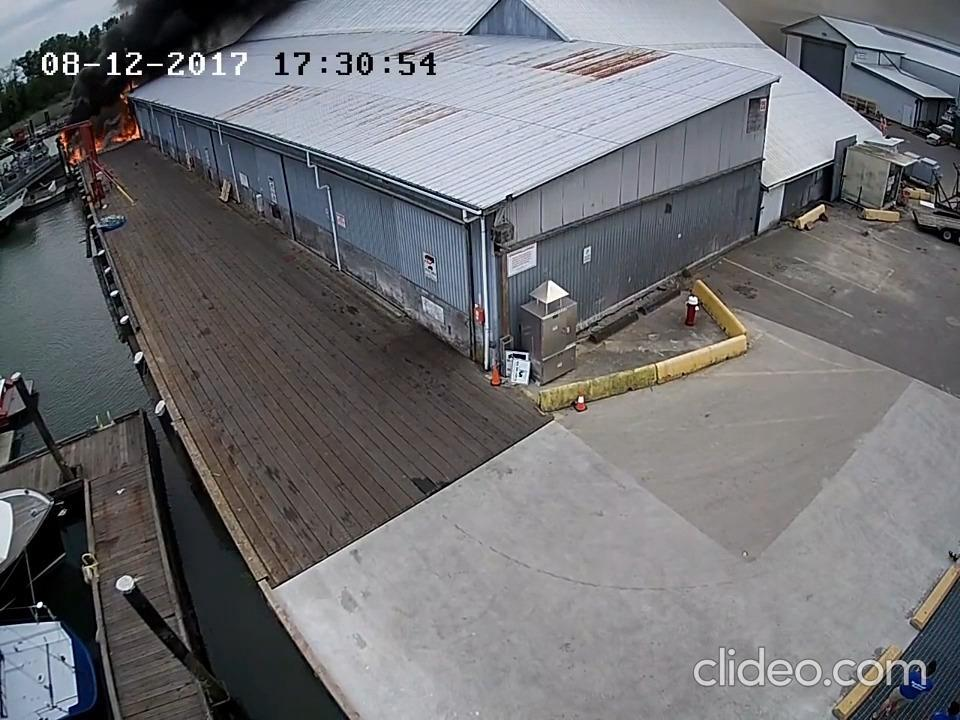fire: (106, 117, 144, 144), (59, 131, 87, 165), (95, 135, 103, 155), (120, 93, 128, 104)
